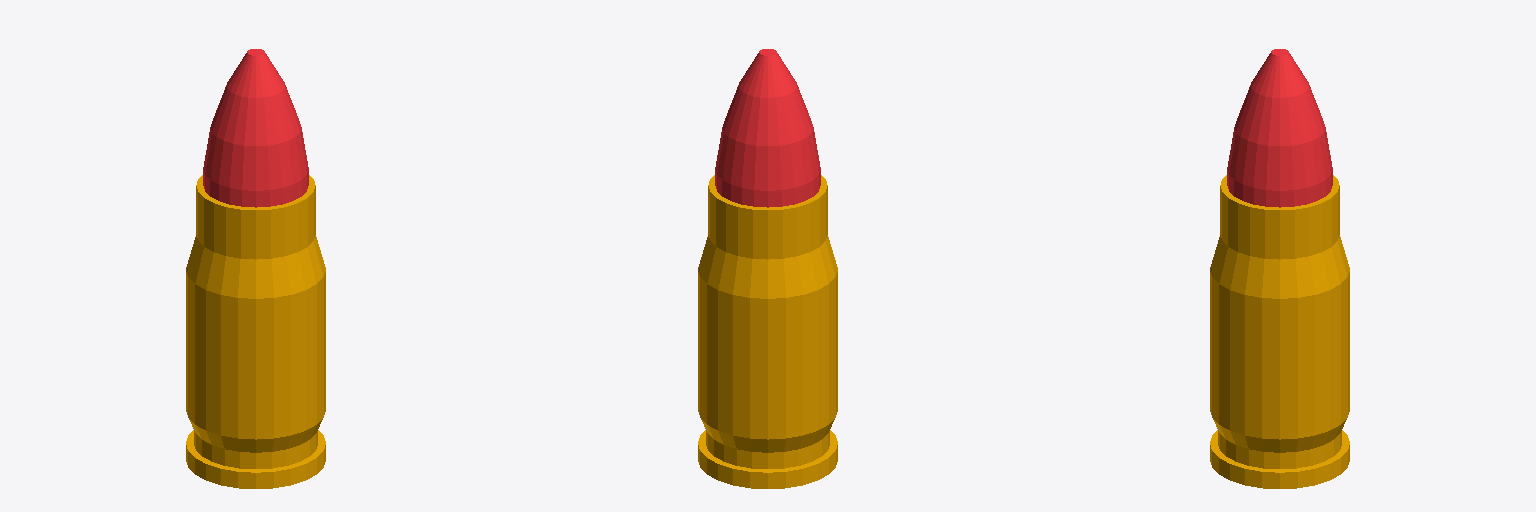
The model's file is ammo_machinegun.obj.
The picture shows the model from 3 angles: view 1: azimuth 30°, elevation 25°; view 2: azimuth 150°, elevation 25°; view 3: azimuth 270°, elevation 25°; orthographic projection.
Parts seen in each view (by area): view 1: Group; view 2: Group; view 3: Group.
Part boxes in pixels (bbox=[...]): Group: bbox=[186, 49, 325, 488]; Group: bbox=[698, 49, 837, 488]; Group: bbox=[1210, 49, 1349, 488].
Size of the model in its own units: 0.0293 by 0.0938 by 0.0293.